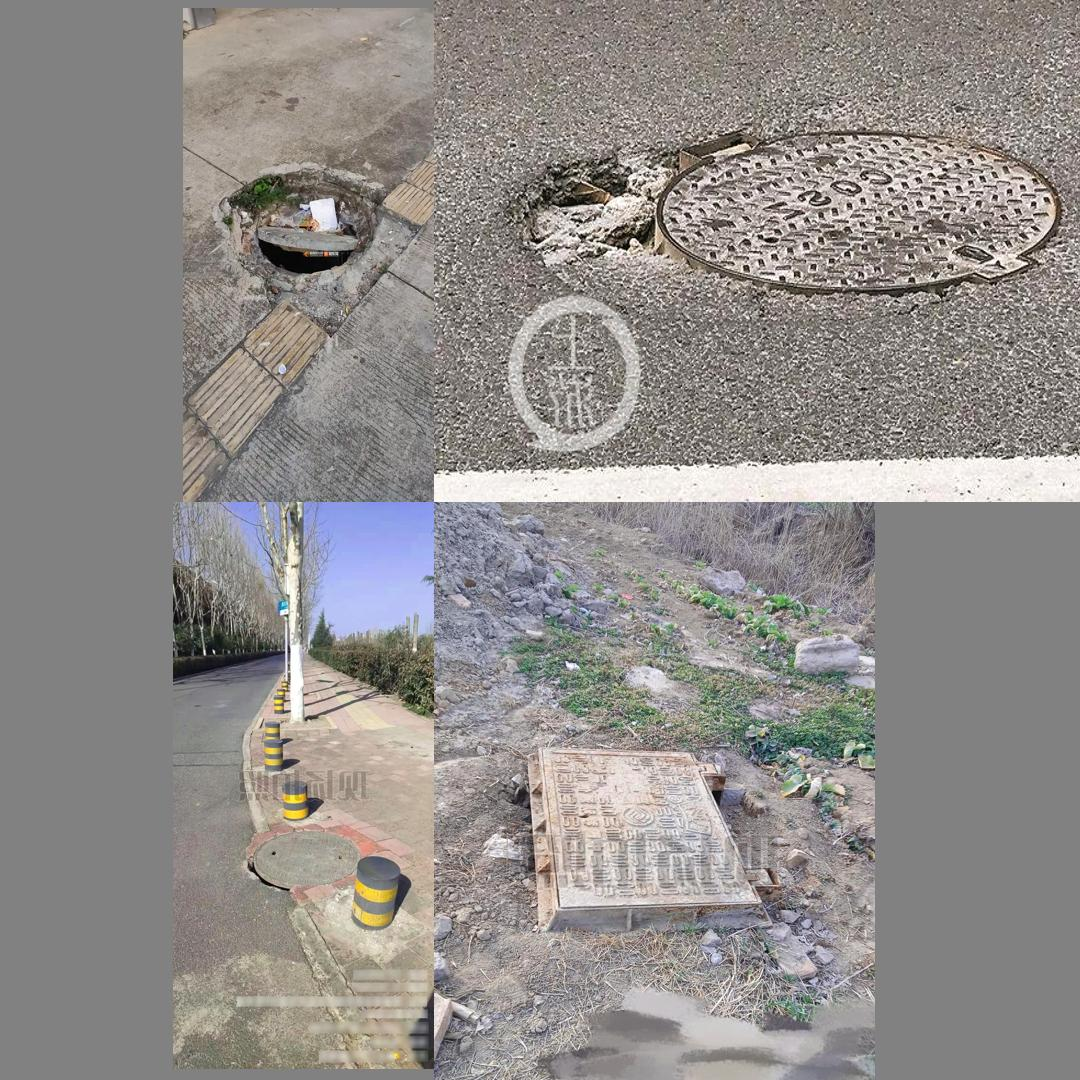circle: (492, 120, 1069, 316), (518, 741, 781, 936), (205, 158, 410, 325), (244, 826, 362, 895)
